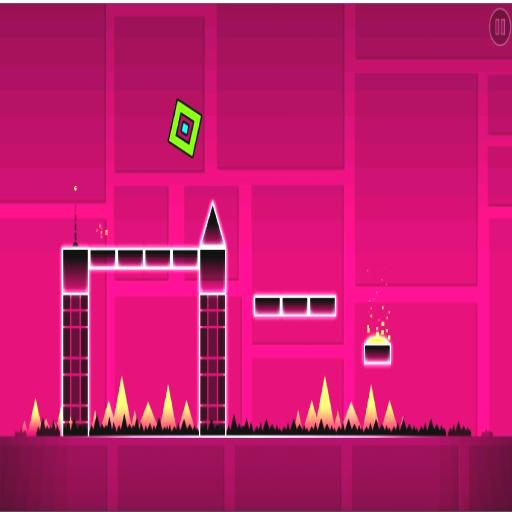block: (61, 245, 227, 439), (255, 296, 335, 315), (362, 344, 392, 368)
player: (169, 99, 201, 157)
spike: (200, 205, 224, 245), (114, 377, 130, 427), (317, 377, 333, 427), (364, 386, 378, 428), (162, 386, 175, 429), (28, 400, 40, 435), (344, 403, 360, 428), (141, 403, 156, 428), (383, 402, 396, 429), (180, 402, 193, 428), (305, 402, 316, 429), (102, 402, 113, 427), (57, 407, 62, 431), (334, 411, 340, 429), (295, 411, 301, 427), (132, 411, 136, 426), (22, 422, 27, 432)
